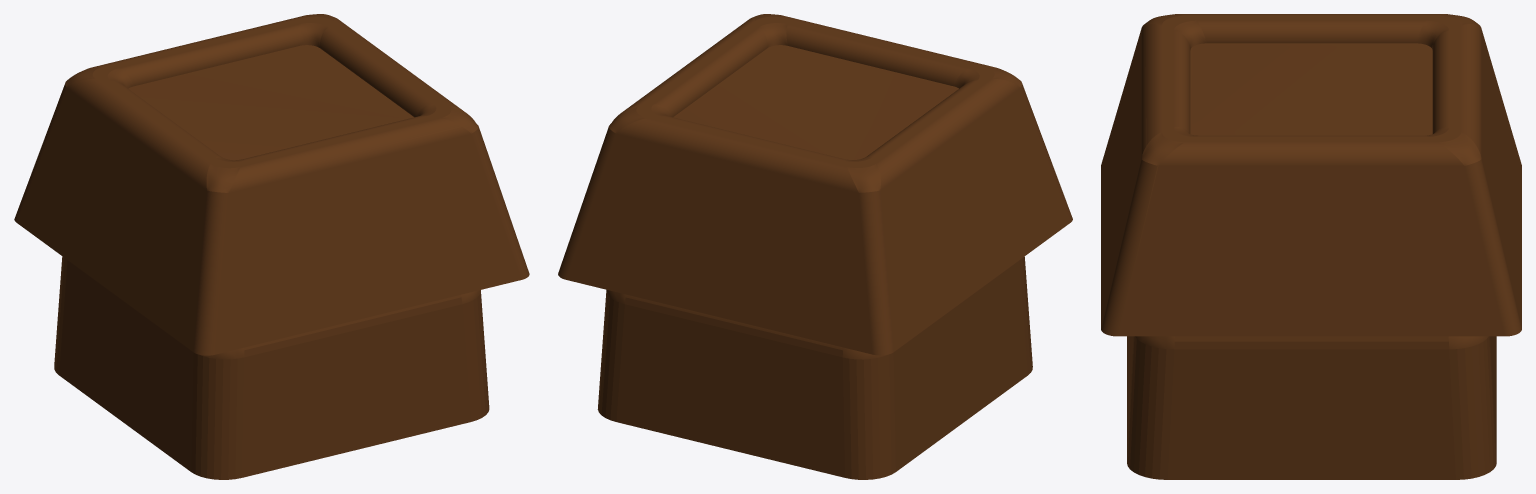
Rendered from keycap_CHOCOLATE.glb.
3 renders of one model, left to right at view 1: azimuth 30°, elevation 25°; view 2: azimuth 150°, elevation 25°; view 3: azimuth 270°, elevation 25°, orthographic. The views are drawn at different scales.
Visible parts, largest first — view 1: keycap_oreo; view 2: keycap_oreo; view 3: keycap_oreo.
Boxes of the visible parts, x1,y1,x2,y2 form: keycap_oreo: (14, 14, 529, 479); keycap_oreo: (558, 14, 1072, 479); keycap_oreo: (1101, 14, 1521, 479).
Size of the model in its own units: 18.46 by 15.63 by 18.46.
